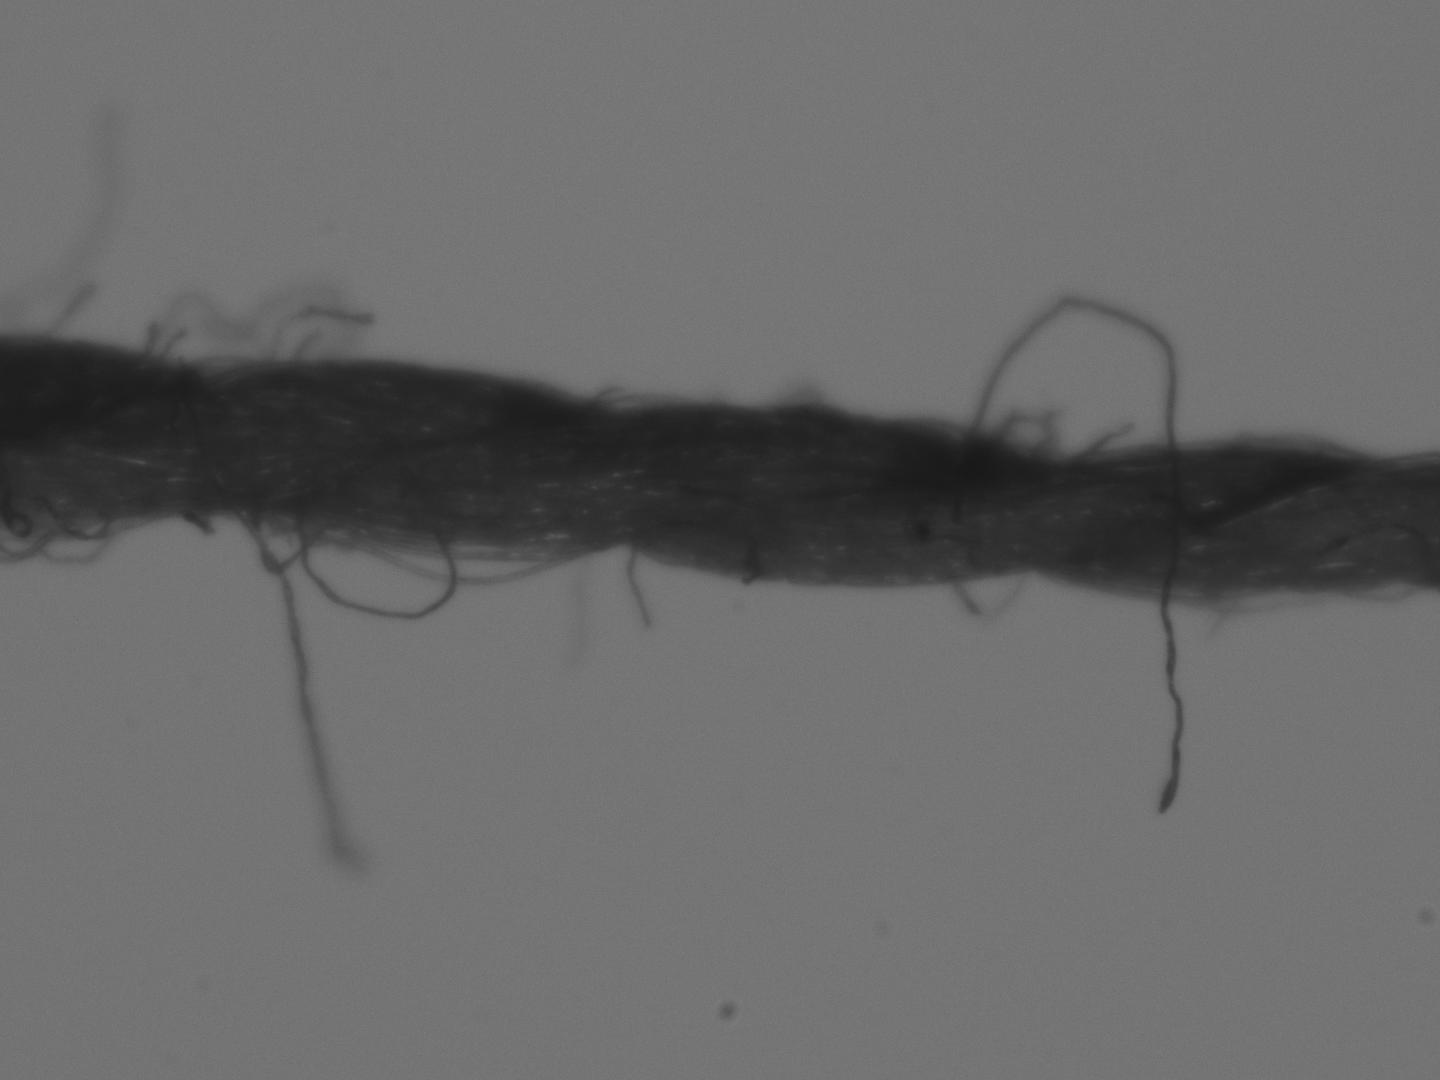loop_fiber: (297, 522, 601, 592), (141, 287, 371, 374), (295, 525, 459, 623), (0, 509, 212, 565), (942, 567, 1030, 622), (255, 512, 328, 574), (984, 410, 1061, 465), (1155, 585, 1320, 610), (1333, 579, 1416, 601), (774, 380, 827, 410)
protruding_fiber: (964, 296, 1185, 816), (234, 503, 365, 862), (0, 103, 116, 324), (626, 543, 658, 635), (45, 287, 95, 339), (1075, 423, 1134, 465)
